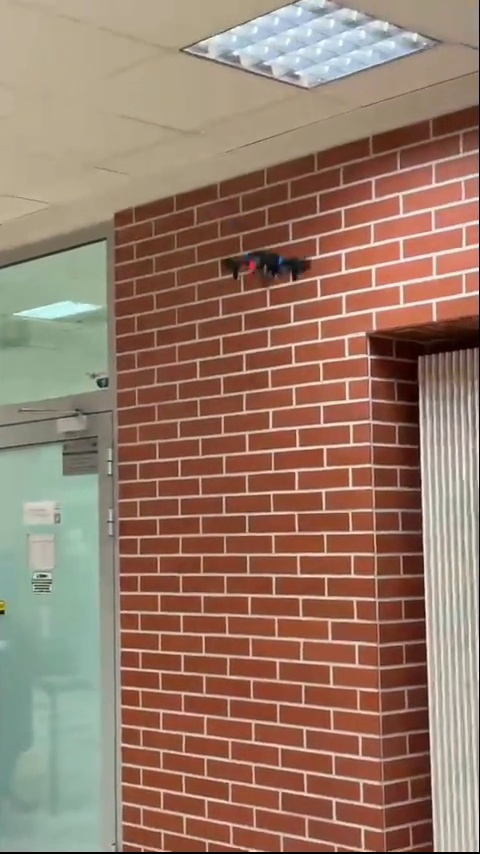drone: (223, 251, 329, 280)
